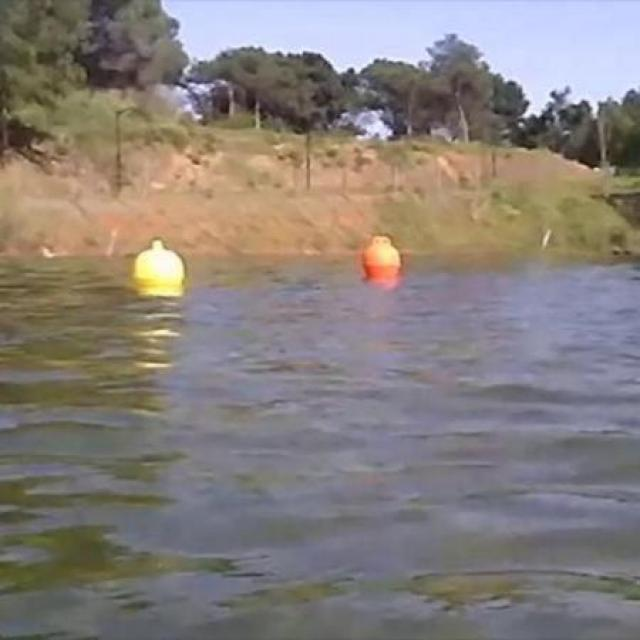buoy: (132, 239, 187, 289), (362, 234, 402, 279)
